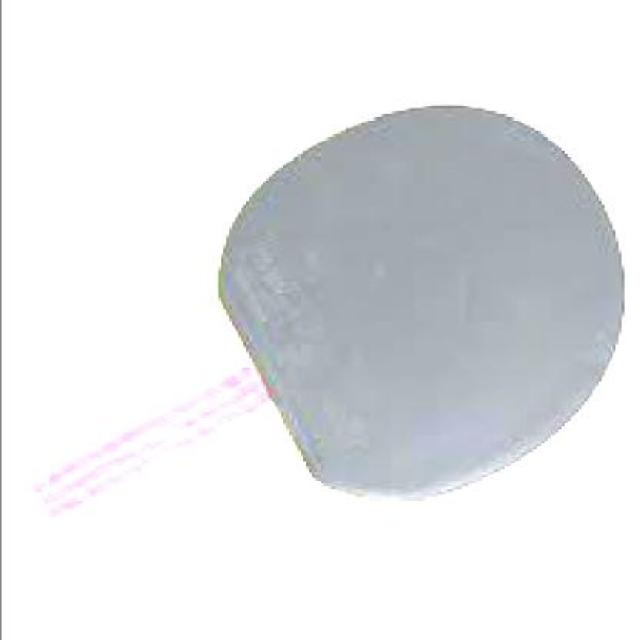table_tennis_racket: (211, 98, 629, 504)
